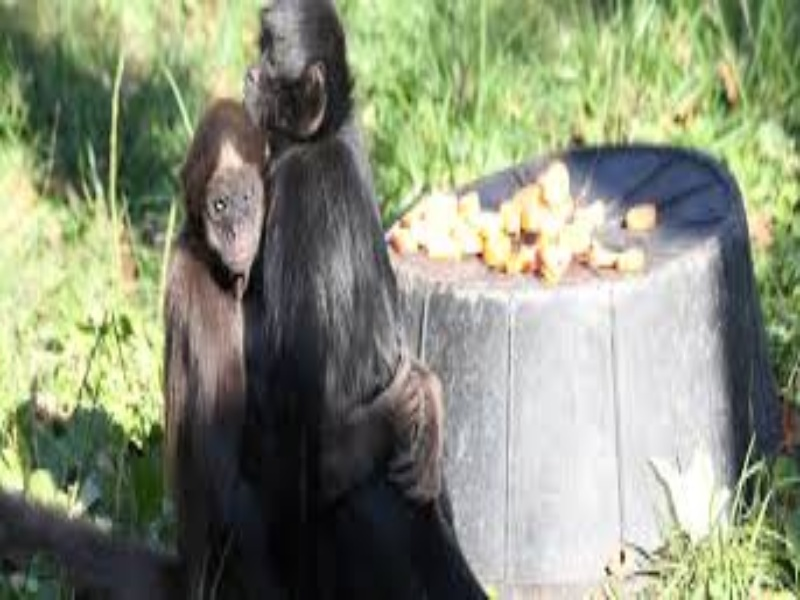monkey: (146, 6, 491, 596)
